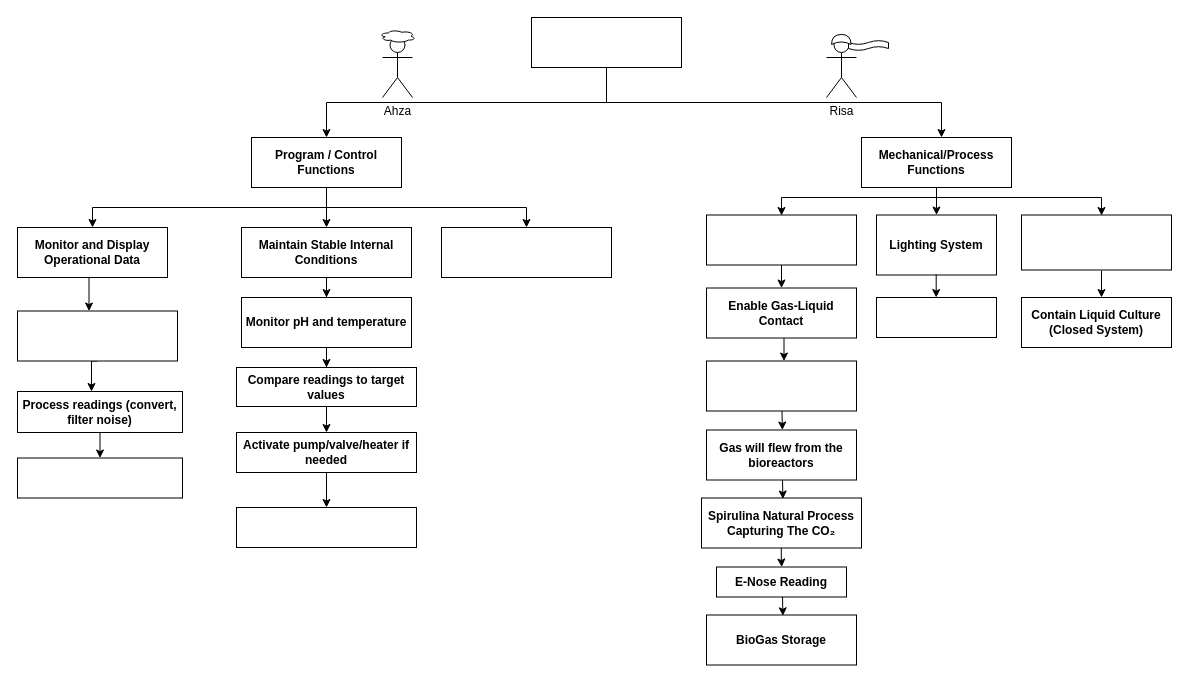
Image size: 1189x683. Some labels were removed from this diagram. The centre of each missing label's shape, as x and y in pixels:
24 Hours Operating: (x=936, y=317)
Bioreactor Containment & Conditioning: (x=1096, y=242)
CO₂ Capture: (x=781, y=385)
Gas Management: (x=781, y=239)
Manage and Separate Produced Gases: (x=526, y=252)
Read sensor inputs (CO2, pH, Temp, Pressure): (x=97, y=335)
Send data to display (LCD / PC): (x=99, y=477)
Spirulina BioGas: (x=606, y=42)
Stop adjustment when stable: (x=326, y=527)
